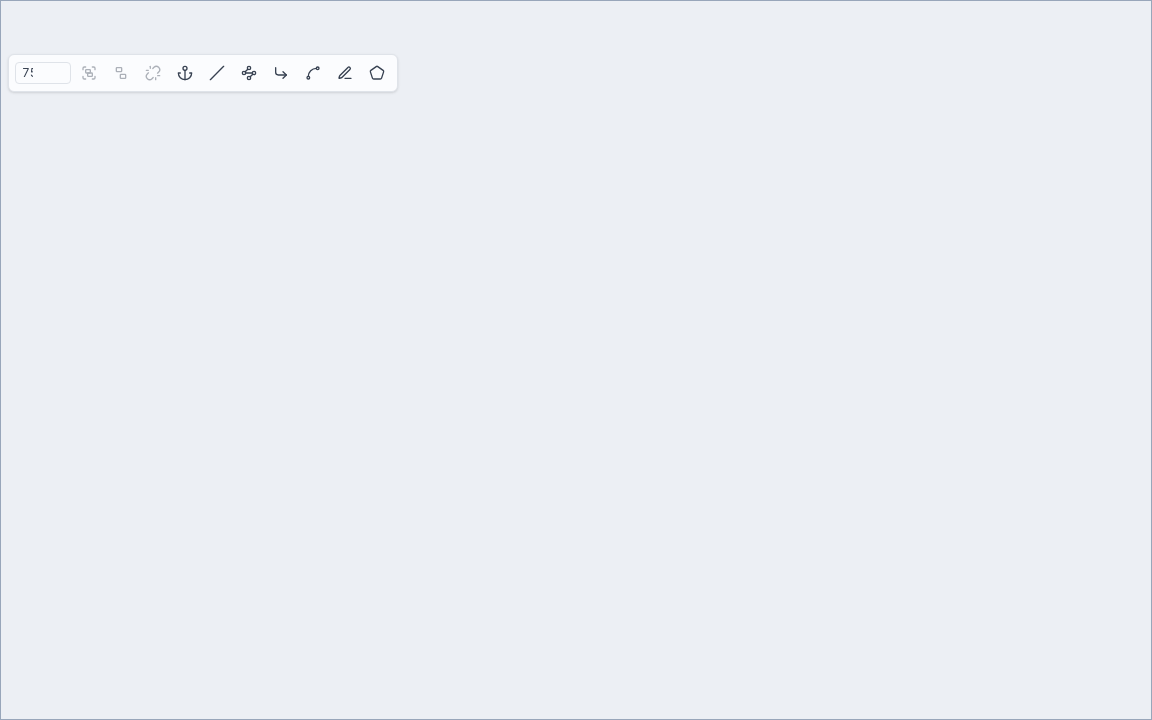
Test case: 규칙이 걸린 그룹에서는 **먼저 묻는다** (AC-31 · REQ-05-c) › 규칙이 있으면 확인을 띄우고 **아직 빼지 않는다**
Press the mouse on the element with test id "canvas-edit-overlay" at (576, 360), box [0,0,1151,719]
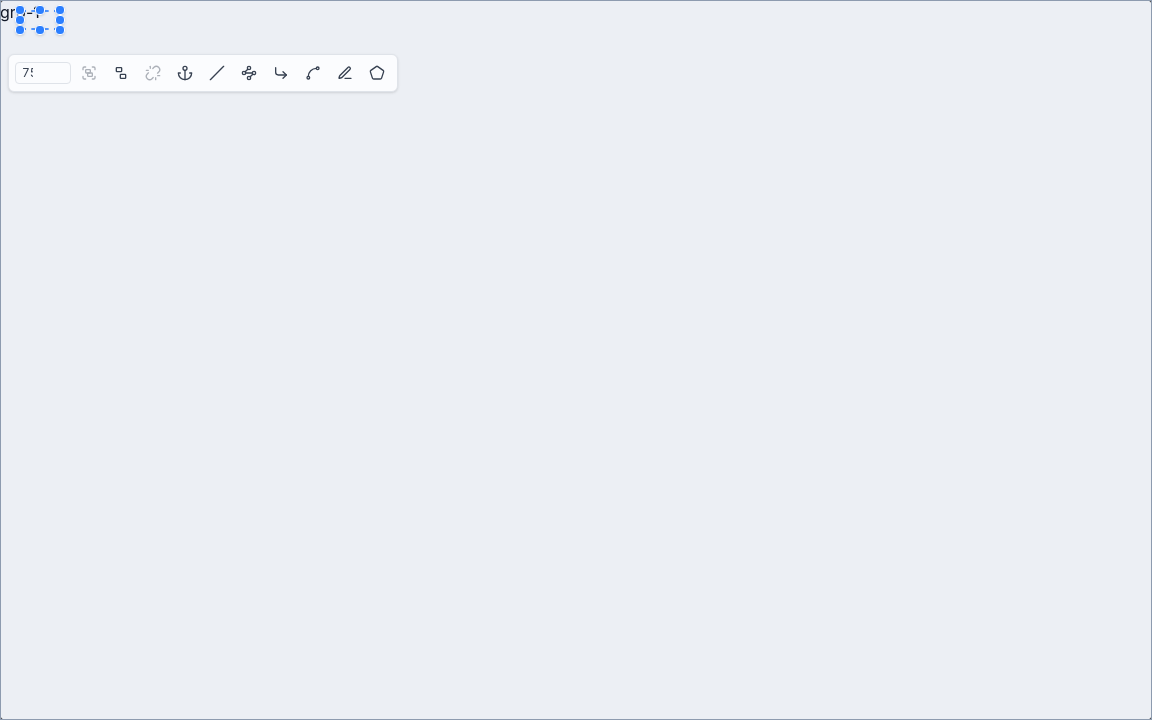
Press the mouse on the element with test id "canvas-edit-overlay" at (576, 360), box [0,0,1151,719]
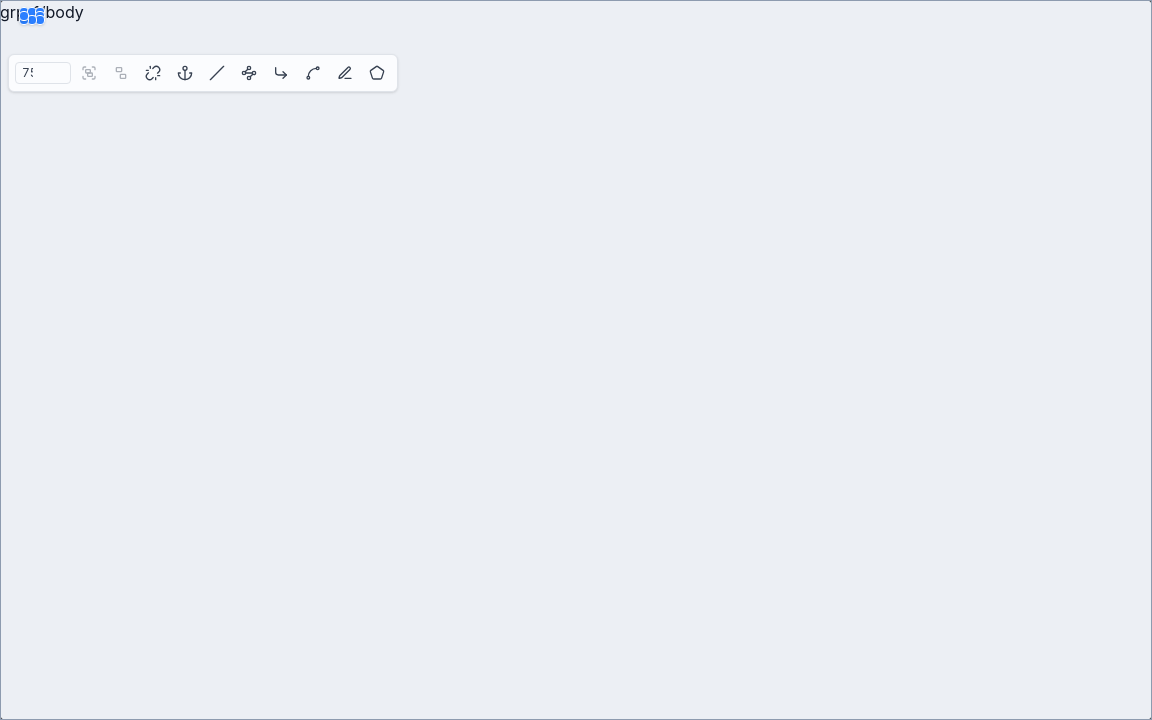
Click the button with test id "canvas-group-detach". click: (153, 73)
box: [139,59,167,87]
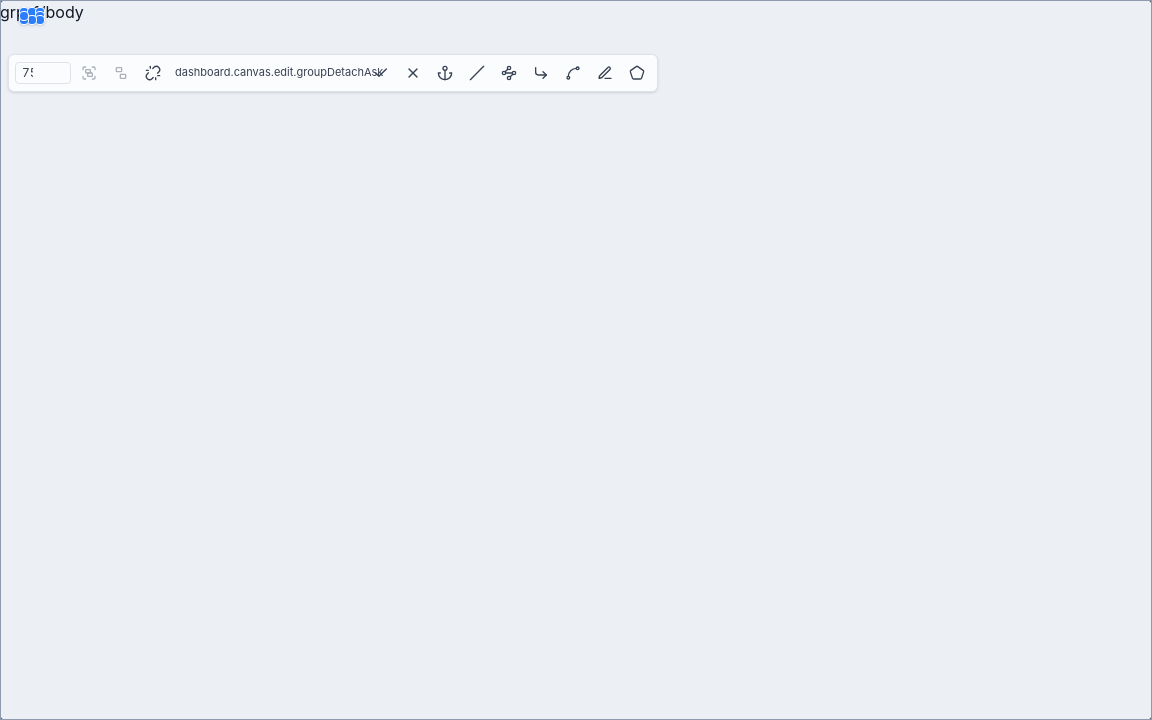
Check: the message "dashboard.canvas.edit.groupDetachAsk" is shown, box [171,59,427,87]
